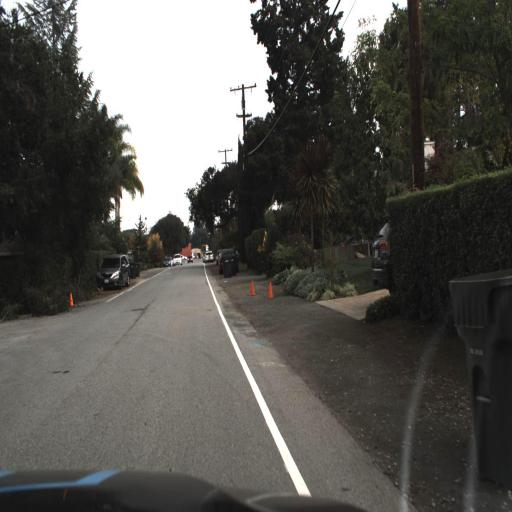car: (94, 252, 130, 292), (372, 215, 390, 295)
